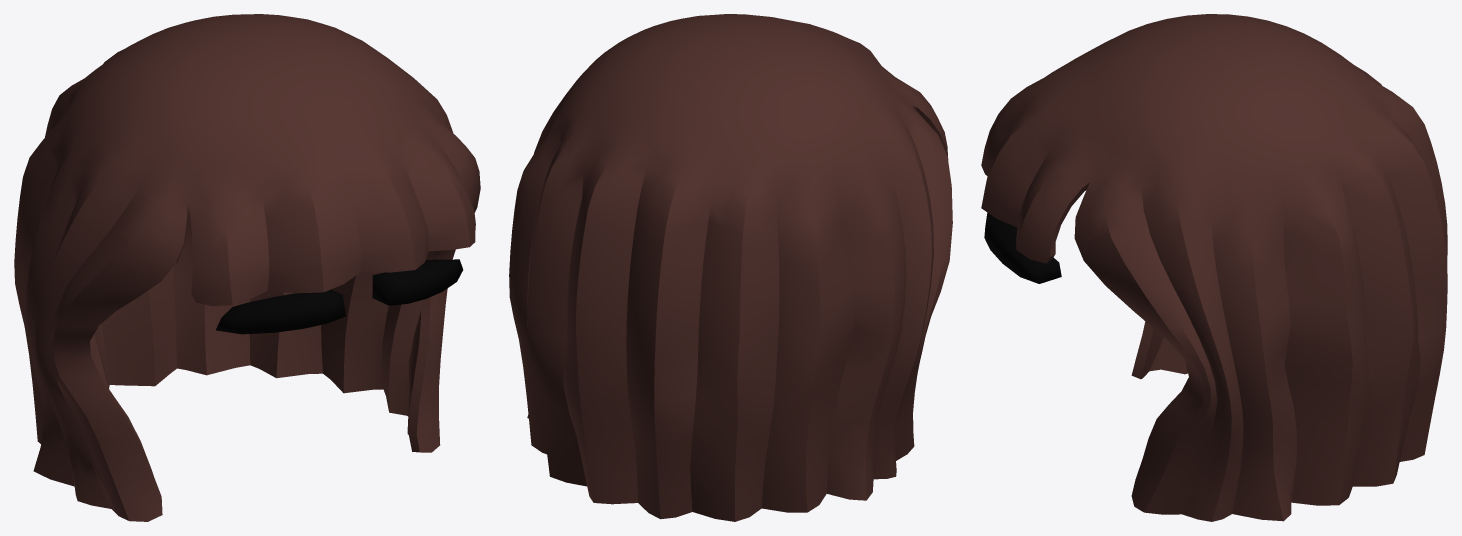
3 renders of one model, left to right at view 1: azimuth 30°, elevation 25°; view 2: azimuth 150°, elevation 25°; view 3: azimuth 270°, elevation 25°, orthographic. The views are drawn at different scales.
Parts seen in each view (by area): view 1: 30女发4; view 2: 30女发4; view 3: 30女发4.
Boxes of the visible parts, x1,y1,x2,y2 form: 30女发4: [14, 14, 480, 521]; 30女发4: [509, 14, 952, 521]; 30女发4: [981, 14, 1447, 521].
Bounding box in the file's own units: 0.446 × 0.4322 × 0.4527.
